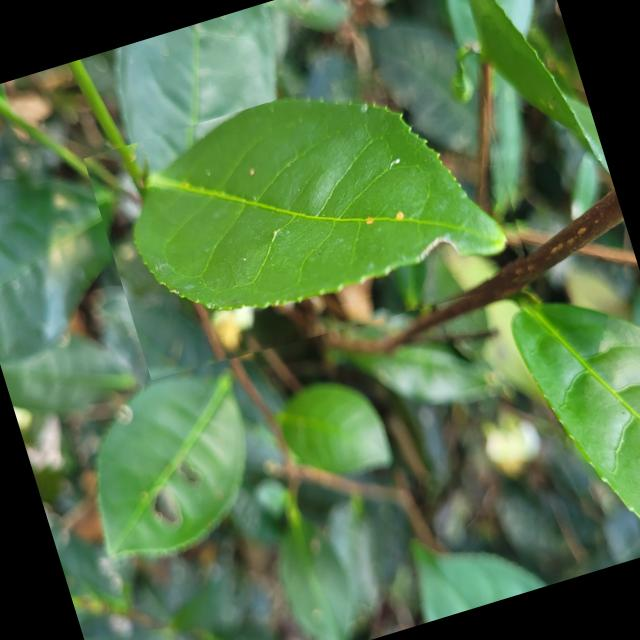Category D(7+ days, Not for Tea): (82, 40, 542, 394)
